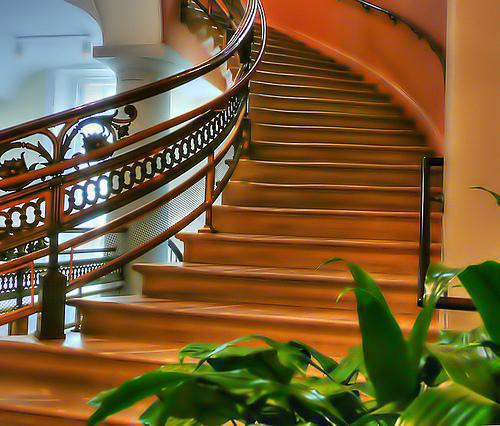Escaleras: (8, 5, 447, 410)
